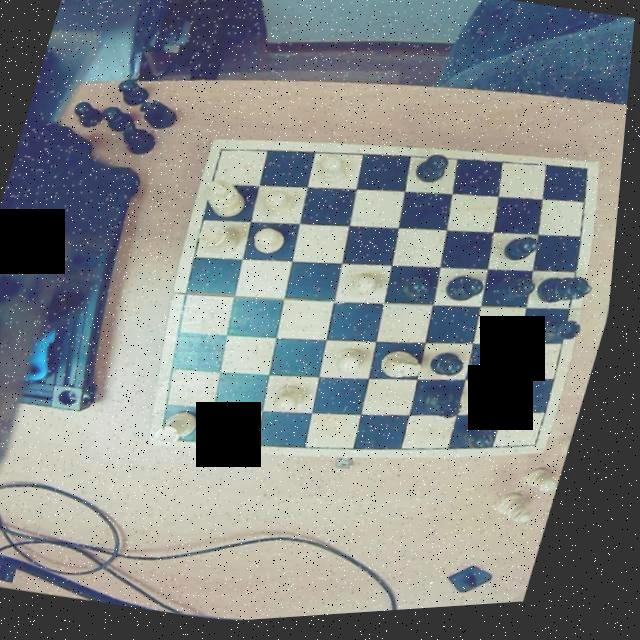chess-table-corners: (156, 422, 188, 452), (570, 165, 604, 191), (208, 141, 238, 170), (530, 436, 559, 462)
